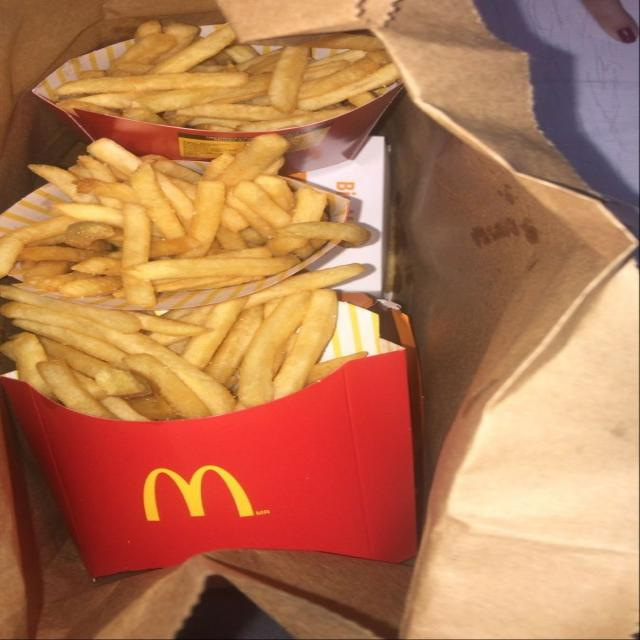potato fries: (0, 134, 347, 308), (0, 287, 342, 420), (54, 23, 399, 131)
